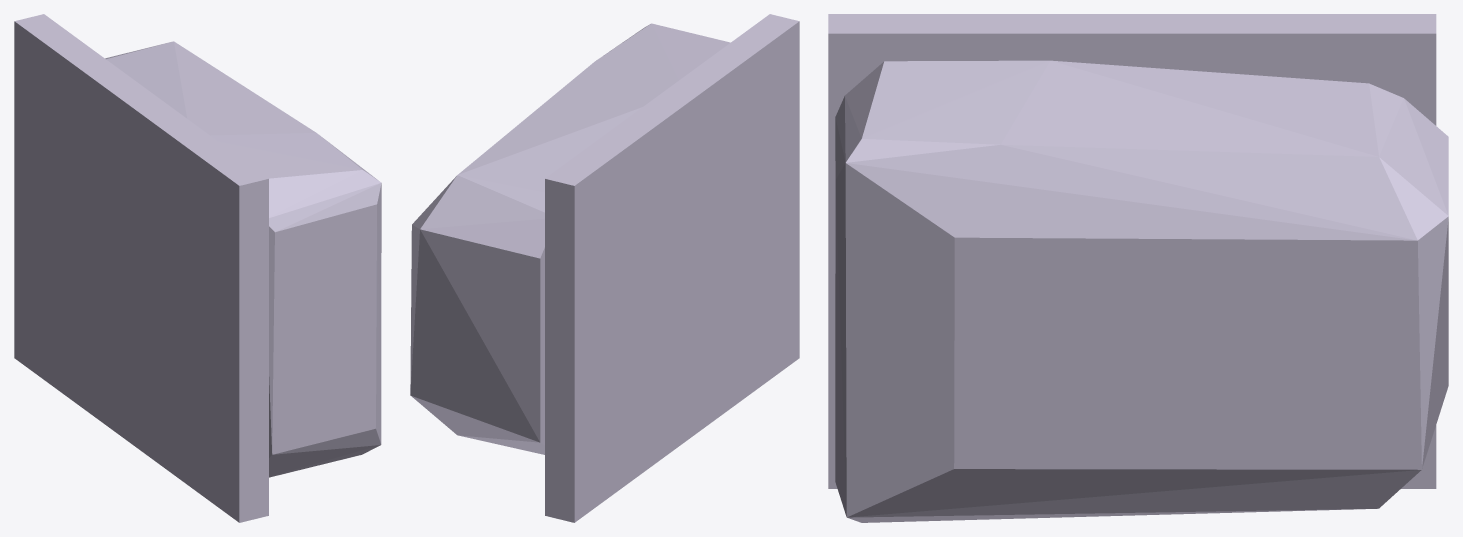
File: palle_scrotali_buone_L3_respondable_PSM1_and_L0_respondable_TOOL1_coll_1.dae
3 views of the same model, side by side, from view 1: azimuth 30°, elevation 25°; view 2: azimuth 150°, elevation 25°; view 3: azimuth 270°, elevation 25° (orthographic). The views are drawn at different scales.
Parts seen in each view (by area): view 1: Node_000002334E243BC0; view 2: Node_000002334E243BC0; view 3: Node_000002334E243BC0.
Part boxes in pixels (x1,y1,x2,y2): Node_000002334E243BC0: (14,14,381,522); Node_000002334E243BC0: (410,14,799,522); Node_000002334E243BC0: (828,14,1448,522).
Size of the model in its own units: 0.04 by 0.076 by 0.0939.
